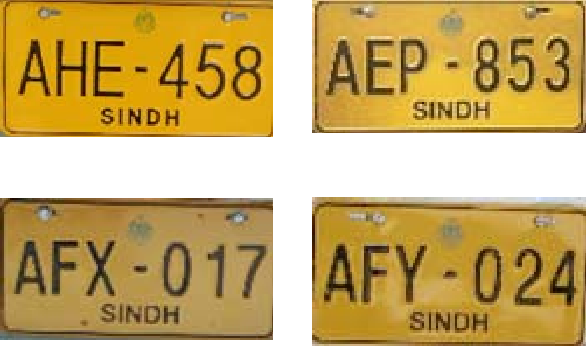license plate: (313, 202, 585, 345), (2, 200, 273, 340), (3, 4, 272, 137), (314, 2, 584, 131)
